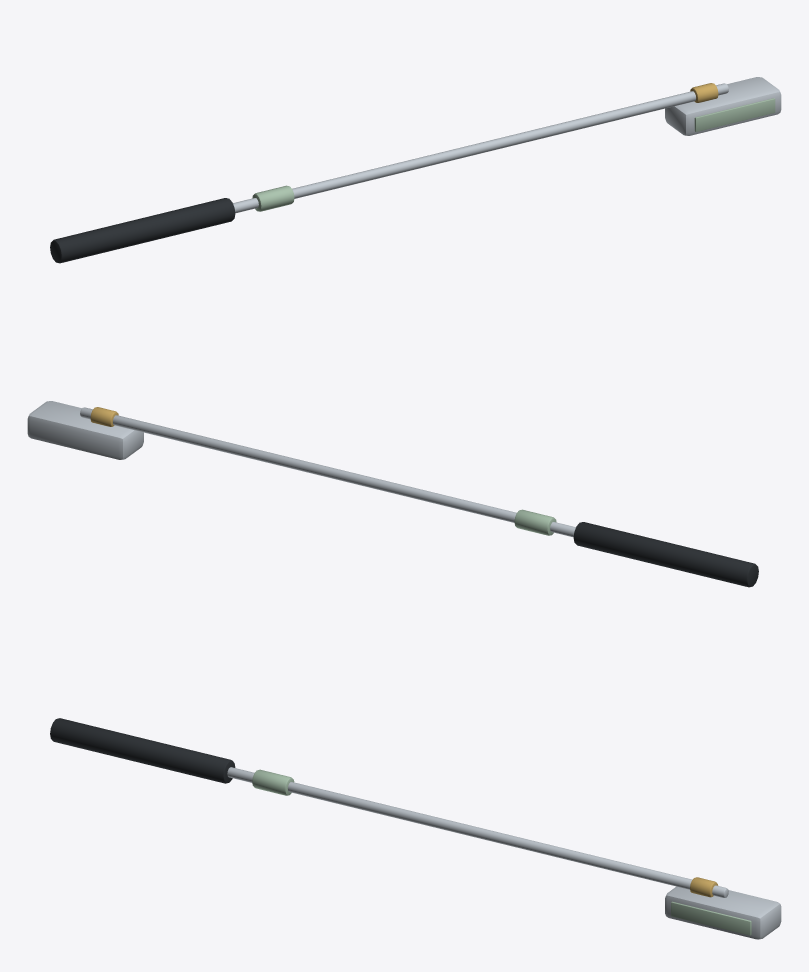
The model's file is checkout_product_putter.glb.
The picture shows the model from 3 angles, top to bottom: view 1: azimuth 30°, elevation 25°; view 2: azimuth 150°, elevation 25°; view 3: azimuth 330°, elevation 25°; orthographic projection.
Visible parts, largest first — view 1: ClubShaft, ClubGrip, PutterBlade, PutterInsert, SkuAccentBand; view 2: ClubShaft, ClubGrip, PutterBlade, SkuAccentBand; view 3: ClubShaft, ClubGrip, PutterBlade, PutterInsert, SkuAccentBand.
Boxes of the visible parts, x1=… form: ClubShaft: x1=233, y1=83, x2=728, y2=213; ClubGrip: x1=50, y1=198, x2=235, y2=263; PutterBlade: x1=665, y1=77, x2=781, y2=135; PutterInsert: x1=694, y1=98, x2=775, y2=131; SkuAccentBand: x1=252, y1=185, x2=294, y2=211; ClubShaft: x1=80, y1=407, x2=575, y2=537; ClubGrip: x1=573, y1=522, x2=758, y2=587; PutterBlade: x1=27, y1=401, x2=143, y2=459; SkuAccentBand: x1=514, y1=509, x2=556, y2=535; ClubShaft: x1=227, y1=767, x2=728, y2=897; ClubGrip: x1=50, y1=718, x2=235, y2=783; PutterBlade: x1=665, y1=886, x2=781, y2=939; PutterInsert: x1=671, y1=901, x2=751, y2=935; SkuAccentBand: x1=252, y1=769, x2=294, y2=795.
Bounding box in the file's own units: 0.965 × 0.1 × 0.12.
